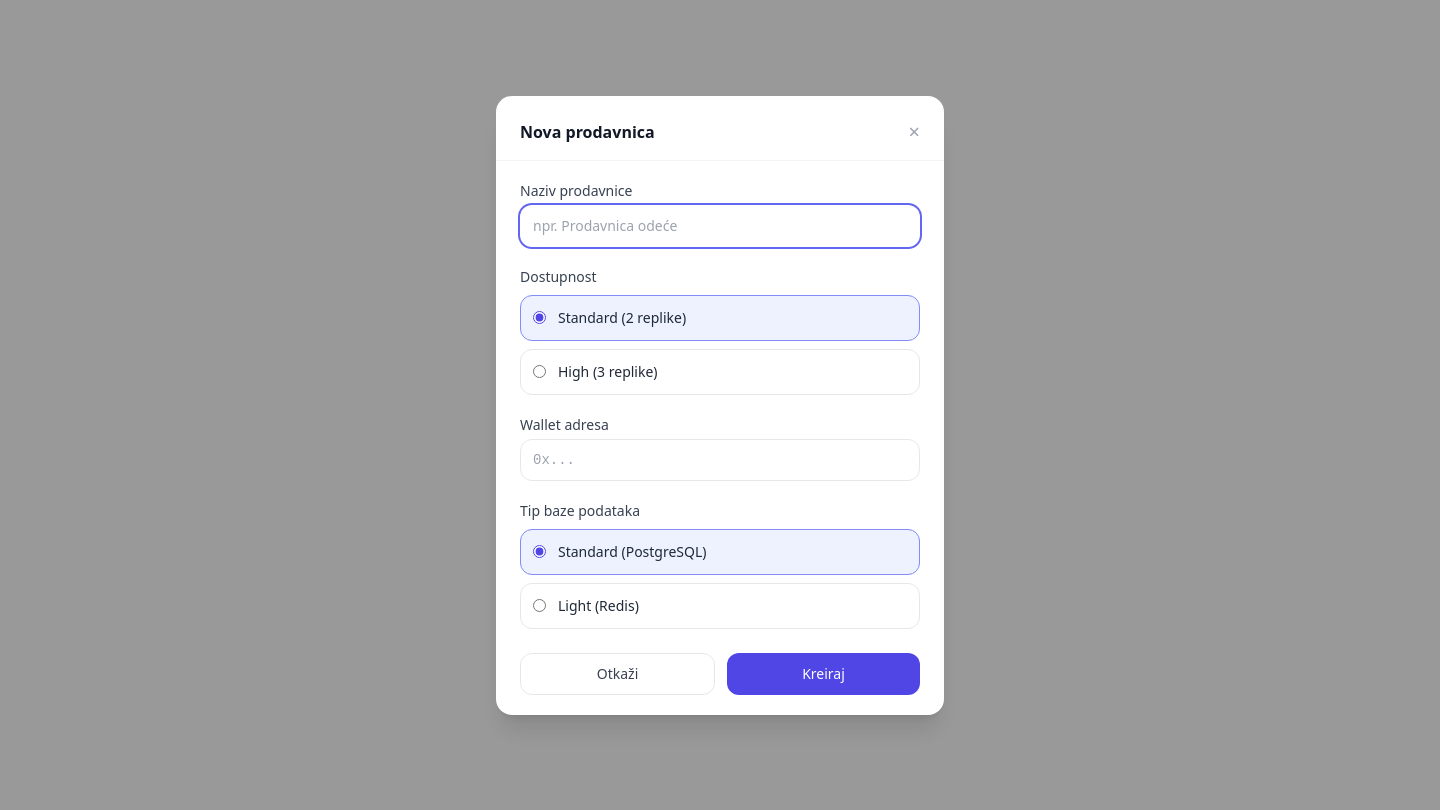
Test: CreateStoreModal › shows validation errors when form is empty
Click the button "Kreiraj": (824, 674) top-left (727, 652), bottom-right (920, 694)
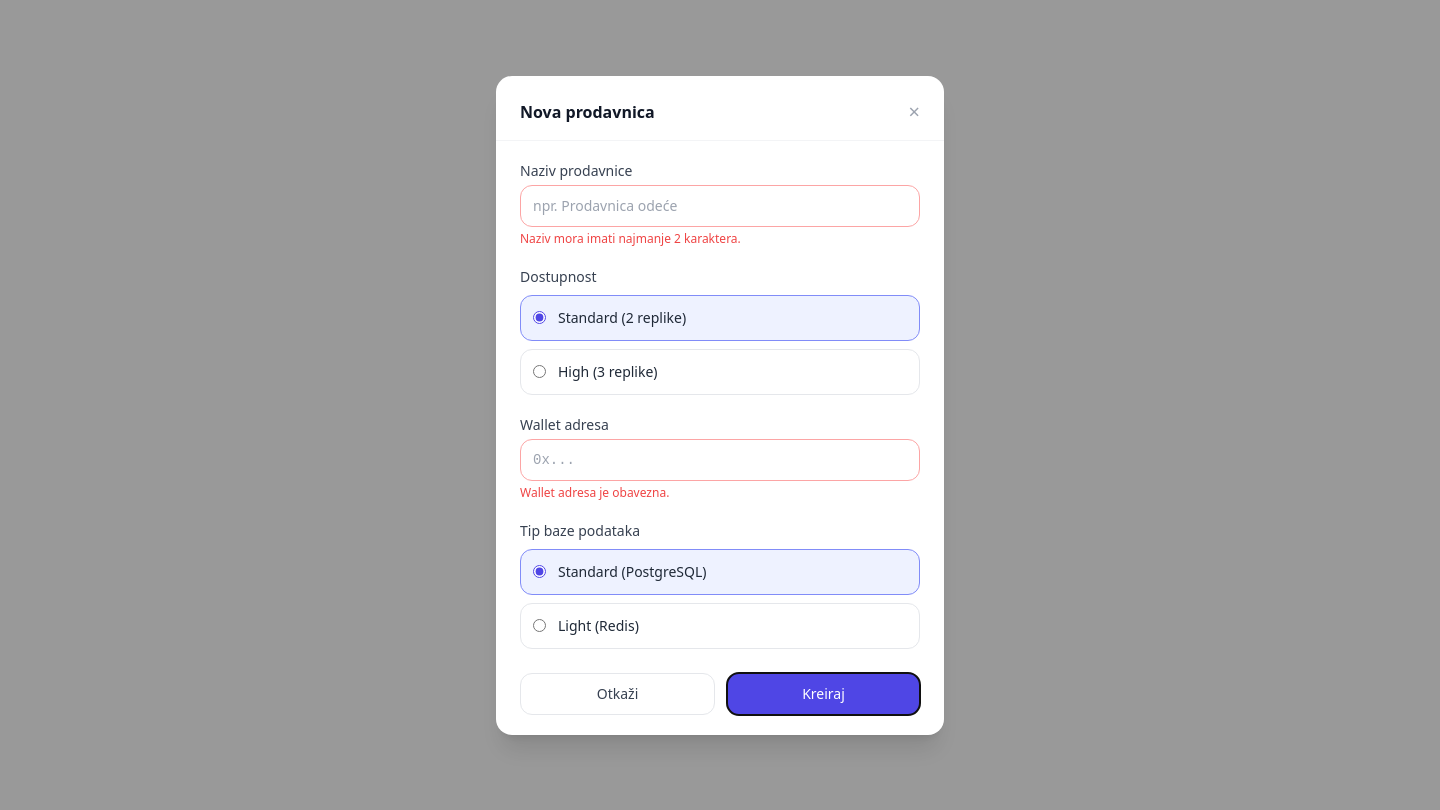
Expected: the text "Naziv mora imati najmanje 2 karaktera." is shown, top-left (520, 230), bottom-right (741, 246)
Expected: the text "Wallet adresa je obavezna." is shown, top-left (520, 484), bottom-right (669, 500)
